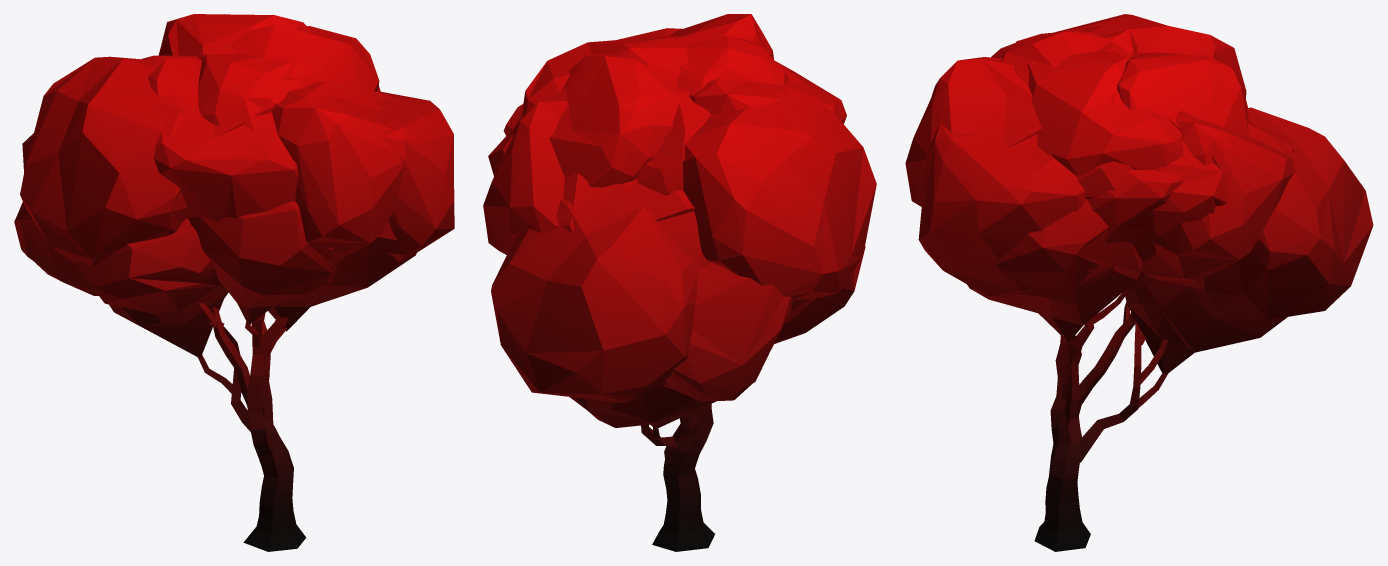
Rendered from TreeMaple01.fbx.
3 renders of one model, left to right at view 1: azimuth 30°, elevation 25°; view 2: azimuth 150°, elevation 25°; view 3: azimuth 270°, elevation 25°, orthographic. The views are drawn at different scales.
Visible parts, largest first — view 1: TreeMaple01_LOD0; view 2: TreeMaple01_LOD0; view 3: TreeMaple01_LOD0.
Boxes of the visible parts, left/top/right/bottom form: TreeMaple01_LOD0: left=14, top=14, right=454, bottom=551; TreeMaple01_LOD0: left=483, top=14, right=876, bottom=551; TreeMaple01_LOD0: left=905, top=14, right=1373, bottom=551.
Size of what is drawn, in the model's own units: 563 by 770 by 669.
